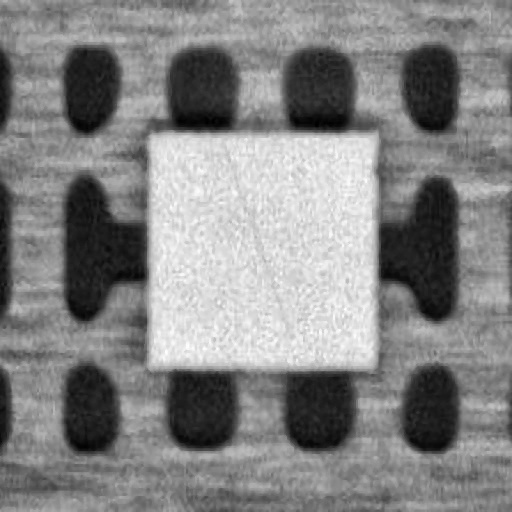DIE_CRACK: (332, 94, 432, 223)
